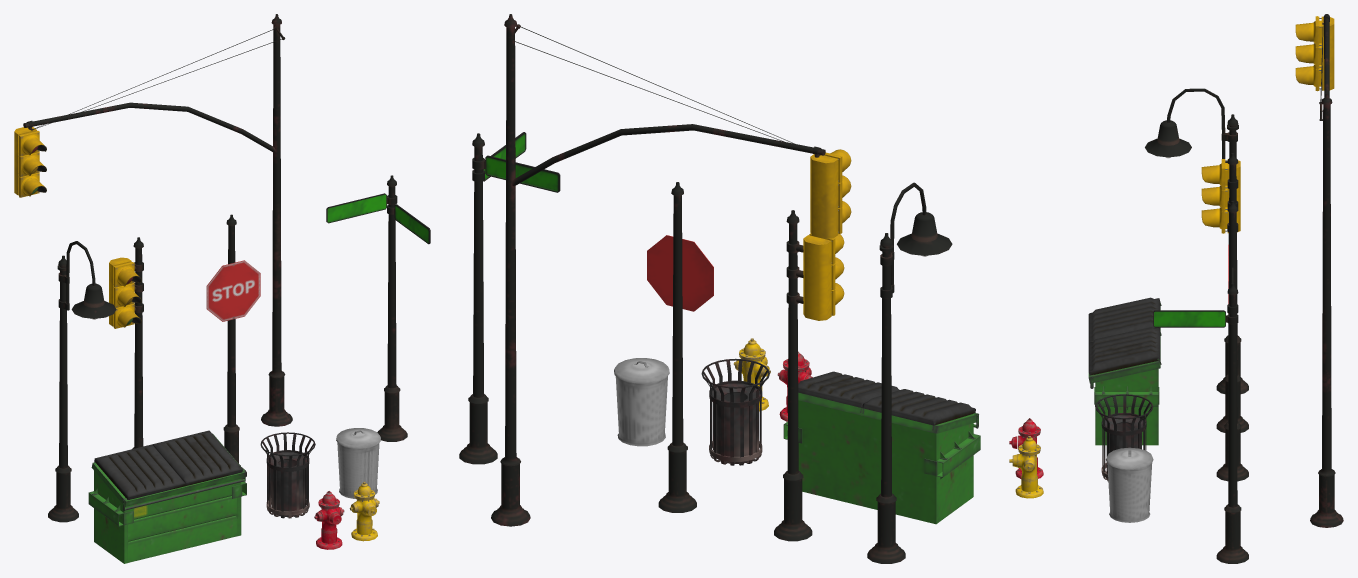
File: street props.fbx
The picture shows the model from 3 angles, left to right: view 1: azimuth 30°, elevation 25°; view 2: azimuth 150°, elevation 25°; view 3: azimuth 270°, elevation 25°; orthographic projection. The views are drawn at different scales.
Visible parts, largest first — view 1: metal street props low poly.006, metal street props low poly, metal street props low poly.008, metal street props low poly.005, metal street props low poly.012, metal street props low poly.011, metal street props low poly.001, metal street props low poly.007, metal street props low poly.003, metal street props low poly.002; view 2: metal street props low poly.006, metal street props low poly, metal street props low poly.011, metal street props low poly.005, metal street props low poly.012, metal street props low poly.008, metal street props low poly.001, metal street props low poly.007, metal street props low poly.003; view 3: metal street props low poly.006, metal street props low poly, metal street props low poly.008, metal street props low poly.007, metal street props low poly.011, metal street props low poly.012, metal street props low poly.001, metal street props low poly.005, metal street props low poly.003, metal street props low poly.002.
Part boxes in pixels (x1,y1,x2,y2): metal street props low poly.006: [88, 430, 246, 563]; metal street props low poly: [14, 14, 292, 426]; metal street props low poly.008: [326, 175, 430, 441]; metal street props low poly.005: [206, 214, 260, 479]; metal street props low poly.012: [48, 241, 116, 522]; metal street props low poly.011: [109, 237, 143, 448]; metal street props low poly.001: [260, 432, 315, 518]; metal street props low poly.007: [336, 428, 380, 498]; metal street props low poly.003: [349, 481, 379, 541]; metal street props low poly.002: [314, 491, 344, 549]; metal street props low poly.006: [783, 371, 980, 524]; metal street props low poly: [491, 14, 851, 526]; metal street props low poly.011: [774, 210, 844, 541]; metal street props low poly.005: [647, 182, 713, 512]; metal street props low poly.012: [867, 182, 952, 563]; metal street props low poly.008: [459, 132, 560, 464]; metal street props low poly.001: [701, 358, 769, 465]; metal street props low poly.007: [614, 358, 669, 446]; metal street props low poly.003: [733, 338, 770, 411]; metal street props low poly.006: [1088, 297, 1161, 445]; metal street props low poly: [1295, 14, 1343, 527]; metal street props low poly.008: [1153, 267, 1248, 563]; metal street props low poly.007: [1106, 447, 1153, 522]; metal street props low poly.011: [1201, 153, 1248, 432]; metal street props low poly.012: [1145, 88, 1248, 393]; metal street props low poly.001: [1095, 394, 1153, 481]; metal street props low poly.005: [1216, 201, 1248, 481]; metal street props low poly.003: [1009, 436, 1043, 498]; metal street props low poly.002: [1009, 418, 1043, 478].
Size of the model in its own units: 5.18 by 5.55 by 3.94.
